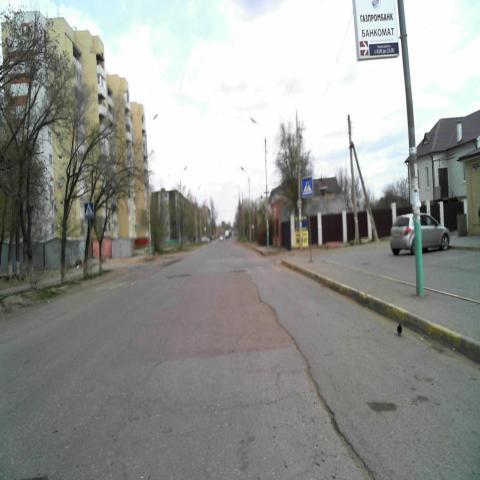5_19_1: (301, 177, 313, 197), (84, 202, 94, 220)
